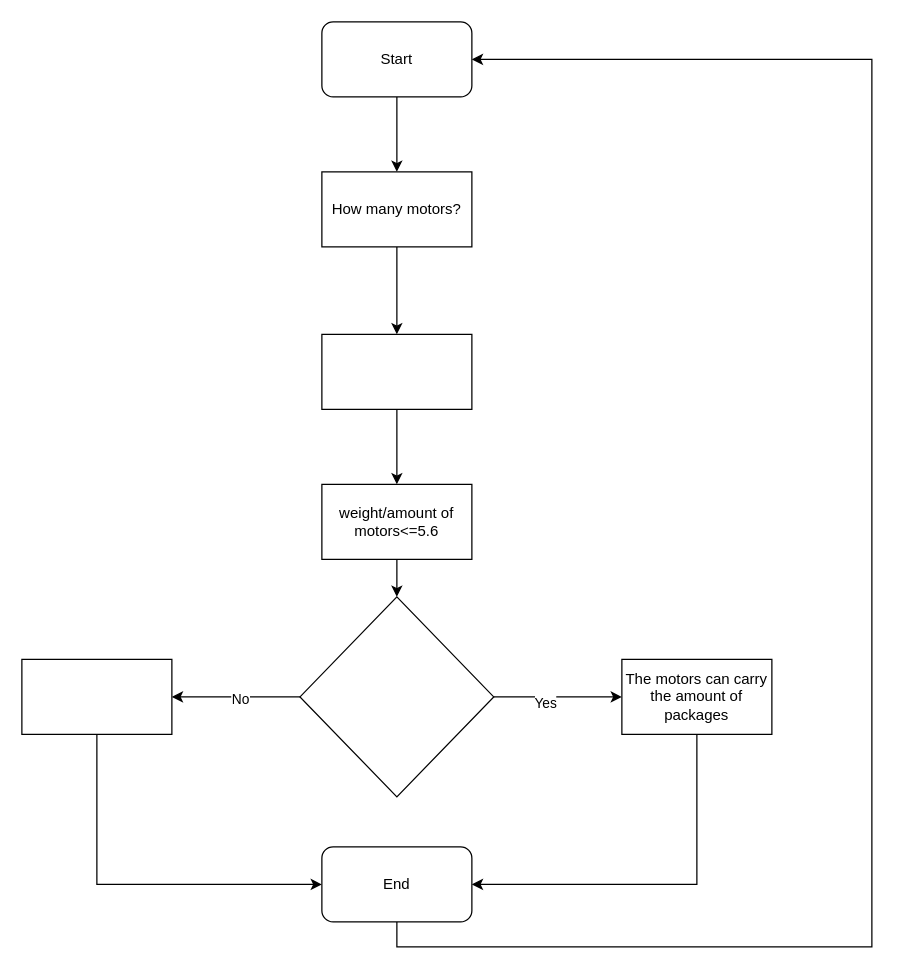
Image size: 904x979. Some labels were removed from this diagram. Each missing label, with the centre of its shape:
Can the motors carry the weight of packages: the point at 396,696
How many kg's of packages?: the point at 396,371
The motors can't carry the amount of packages: the point at 96,696
